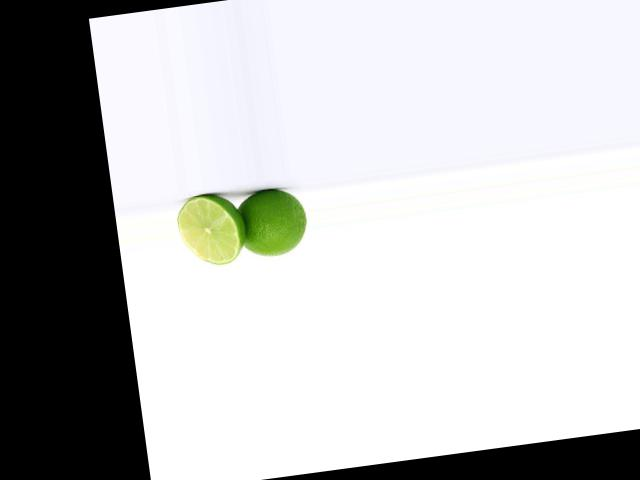lemon: (233, 180, 313, 261)
